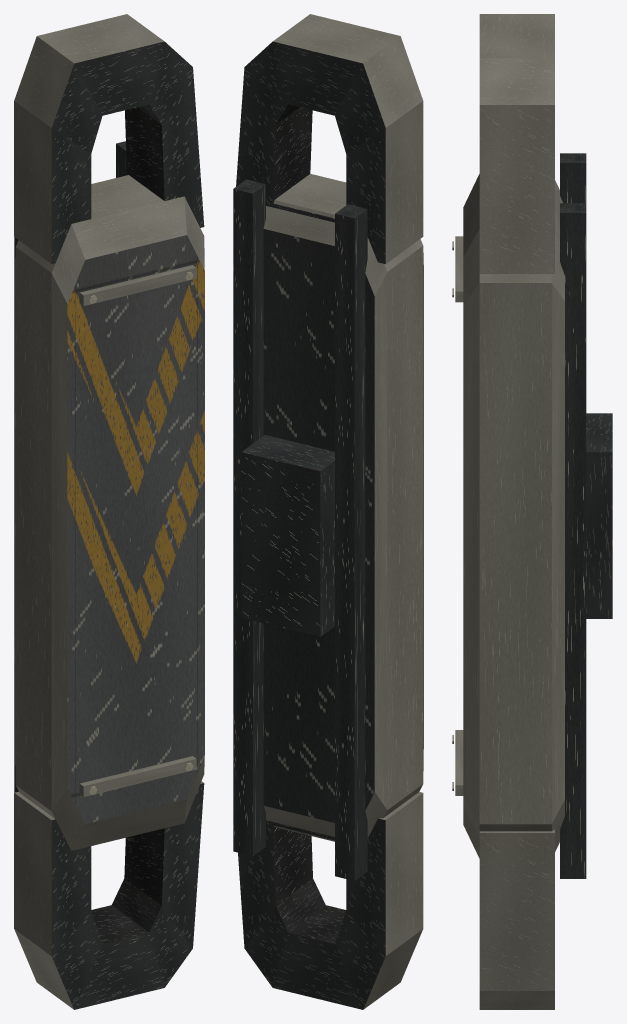
Rendered from TwinShieldPanel.obj.
The picture shows the model from 3 angles, left to right: view 1: azimuth 30°, elevation 25°; view 2: azimuth 150°, elevation 25°; view 3: azimuth 270°, elevation 25°; orthographic projection.
Parts seen in each view (by area): view 1: TwinShieldPanel; view 2: TwinShieldPanel; view 3: TwinShieldPanel.
Boxes of the visible parts, bbox=[...] form: TwinShieldPanel: bbox=[14, 14, 204, 1009]; TwinShieldPanel: bbox=[233, 14, 423, 1009]; TwinShieldPanel: bbox=[452, 14, 612, 1009].
Size of the model in its own units: 0.54 by 3.2 by 0.488.
Materials: 1 (1 with a texture image).
